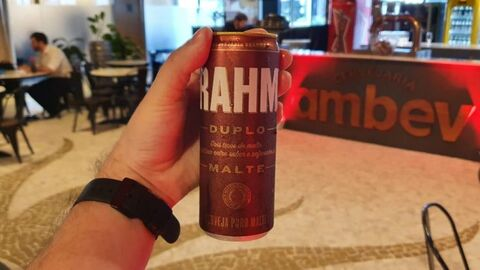duplo_malte: (199, 35, 275, 244)
